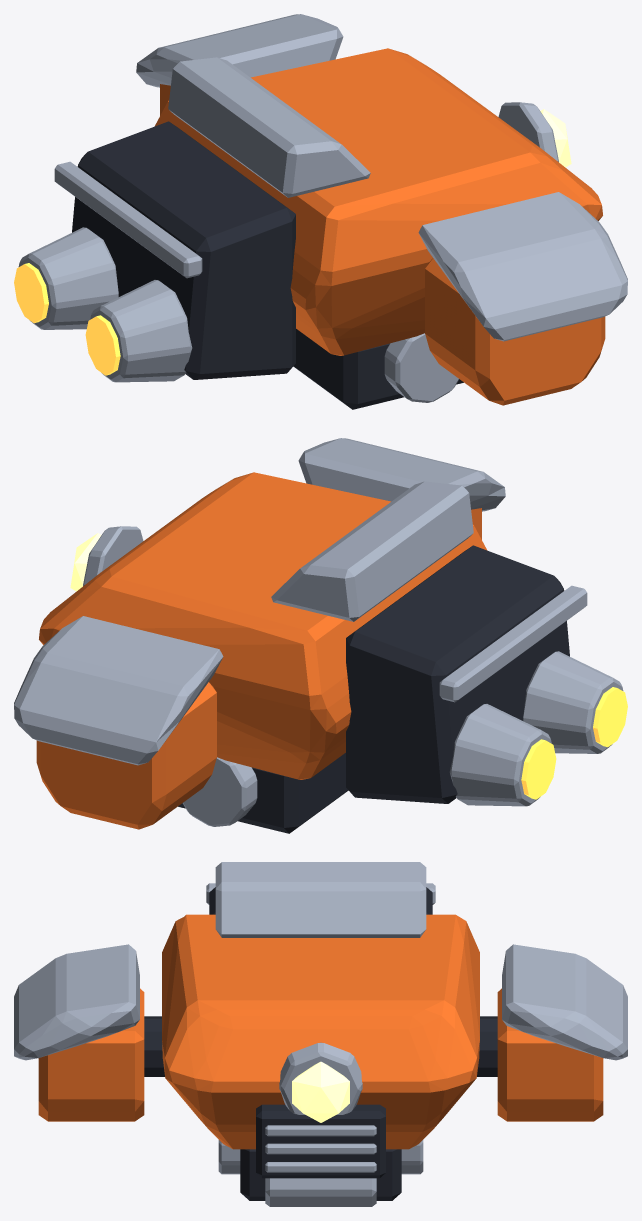
File: chassis.glb
3 views of the same model, one above another, from view 1: azimuth 30°, elevation 25°; view 2: azimuth 150°, elevation 25°; view 3: azimuth 270°, elevation 25° (orthographic). The views are drawn at different scales.
Parts seen in each view (by area): view 1: Torso, Shoulder_R, Shoulder_L, Hips; view 2: Torso, Shoulder_L, Shoulder_R, Hips; view 3: Torso, Shoulder_L, Shoulder_R, Hips.
Part boxes in pixels (left/top/right/bottom): Torso: left=14, top=48, right=602, bottom=382; Shoulder_R: left=418, top=192, right=627, bottom=405; Shoulder_L: left=136, top=14, right=343, bottom=115; Hips: left=293, top=329, right=463, bottom=409; Torso: left=39, top=472, right=627, bottom=806; Shoulder_L: left=14, top=616, right=223, bottom=829; Shoulder_R: left=298, top=438, right=505, bottom=539; Hips: left=178, top=753, right=348, bottom=833; Torso: left=162, top=862, right=479, bottom=1178; Shoulder_L: left=477, top=944, right=627, bottom=1121; Shoulder_R: left=14, top=944, right=164, bottom=1121; Hips: left=218, top=1140, right=423, bottom=1206.
Size of the model in its own units: 1.61 by 0.9128 by 1.98.
